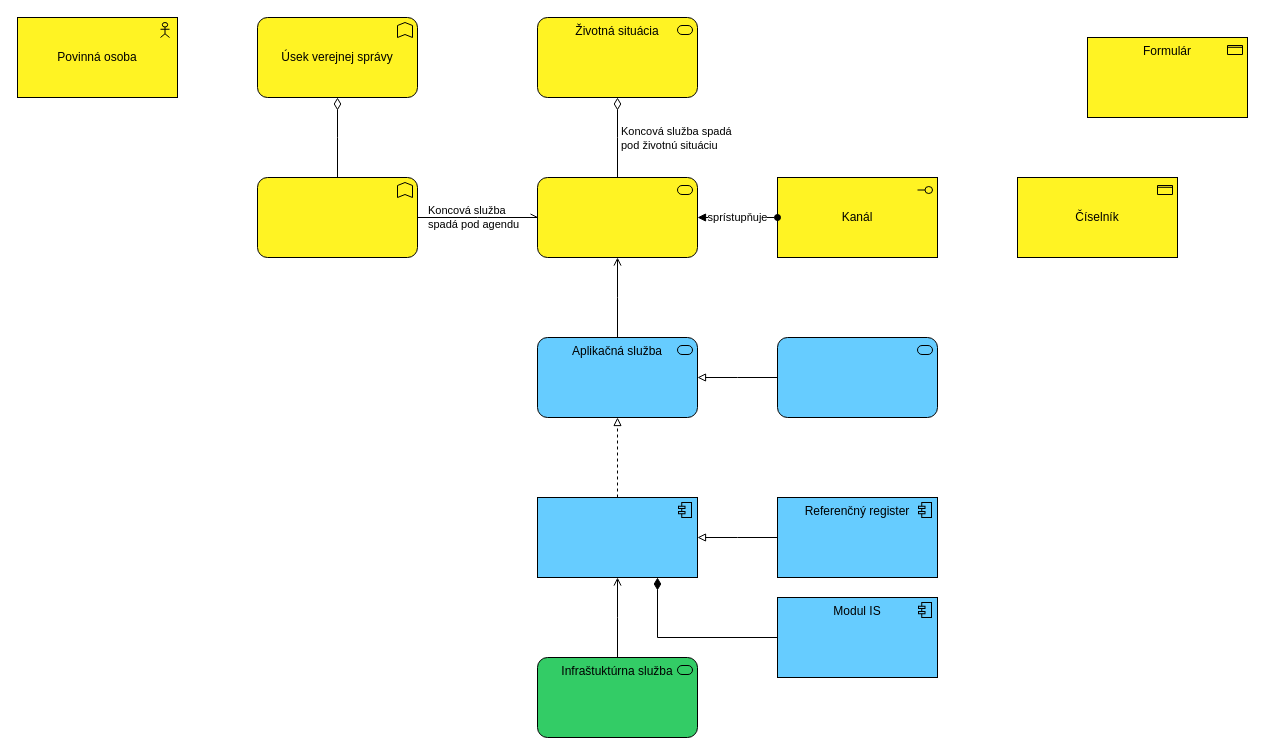
Some shapes in this 1265 by 755 pixel diagram are drawn without their labels. Here are the shapes that lost their labels. From the top down, the box of each, then its label:
(256, 176, 418, 258): Agenda
(536, 176, 698, 258): Koncová služba
(776, 336, 938, 418): AS poskytovaná na externú integráciu
(536, 496, 698, 578): IS
